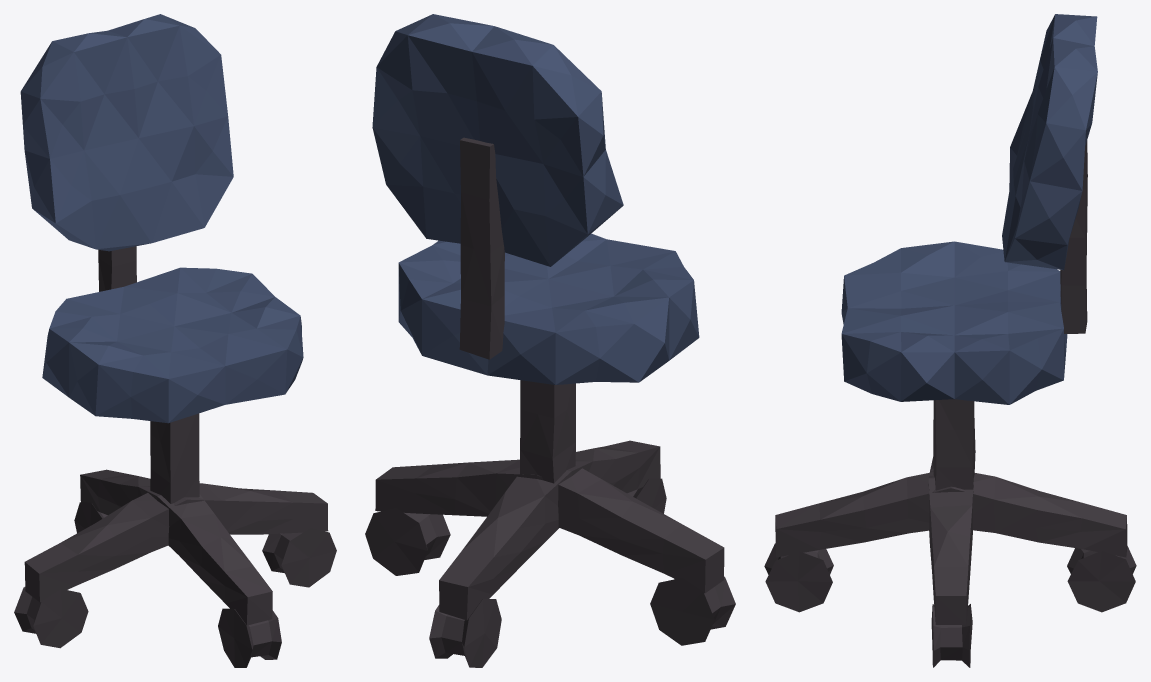
File: bedroom_chair.fbx
3 renders of one model, left to right at view 1: azimuth 30°, elevation 25°; view 2: azimuth 150°, elevation 25°; view 3: azimuth 270°, elevation 25°, orthographic. The views are drawn at different scales.
Visible parts, largest first — view 1: bedroom_chair; view 2: bedroom_chair; view 3: bedroom_chair.
Part boxes in pixels (x1,y1,x2,y2): bedroom_chair: [14, 14, 336, 667]; bedroom_chair: [365, 14, 735, 667]; bedroom_chair: [764, 14, 1136, 667].
Size of the model in its own units: 52.97 by 89.96 by 53.24.
